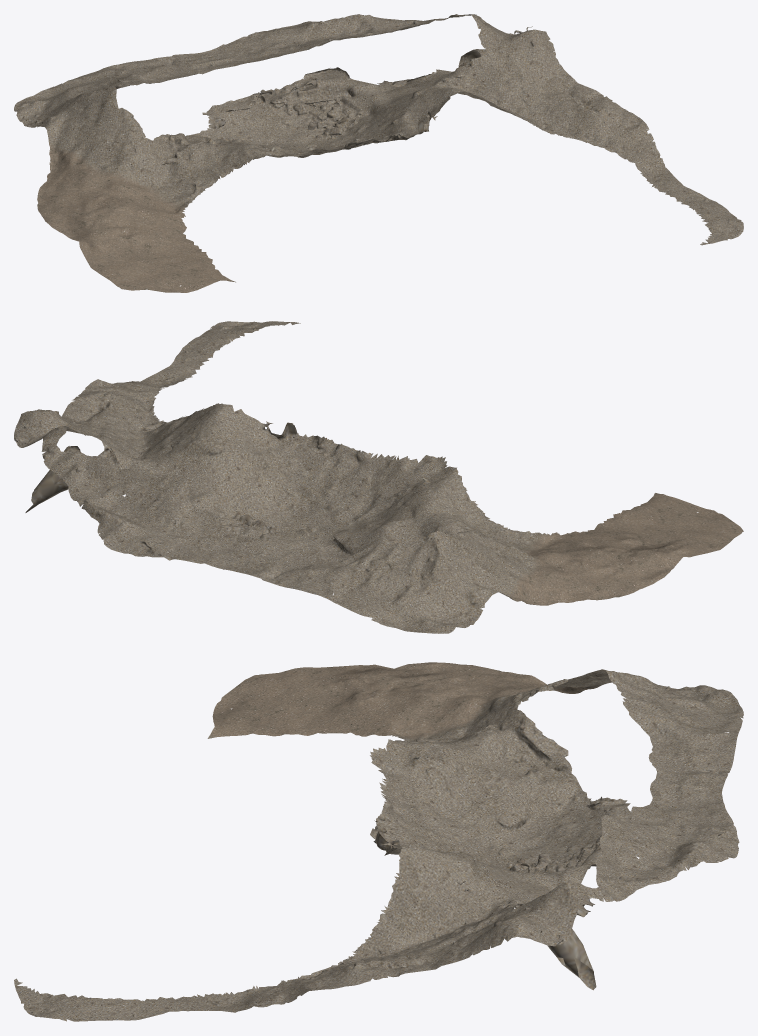
Rendered from MOD_jTraption_outerGround.fbx.
3 renders of one model, top to bottom at view 1: azimuth 30°, elevation 25°; view 2: azimuth 150°, elevation 25°; view 3: azimuth 270°, elevation 25°, orthographic. The views are drawn at different scales.
Visible parts, largest first — view 1: MOD_jTraption_outerGround; view 2: MOD_jTraption_outerGround; view 3: MOD_jTraption_outerGround.
Part boxes in pixels (x1,y1,x2,y2): MOD_jTraption_outerGround: (14,14,743,292); MOD_jTraption_outerGround: (14,321,743,633); MOD_jTraption_outerGround: (14,662,743,1021).
Bounding box in the file's own units: 1946 × 268 × 1767.
Materials: 1 (1 with a texture image).
